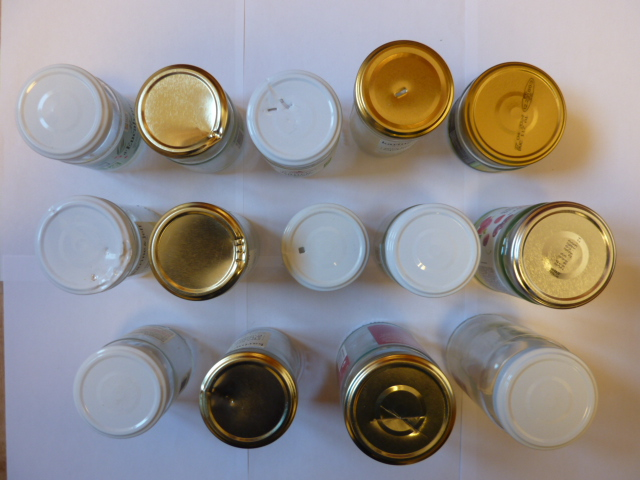intact: (510, 200, 617, 312)
